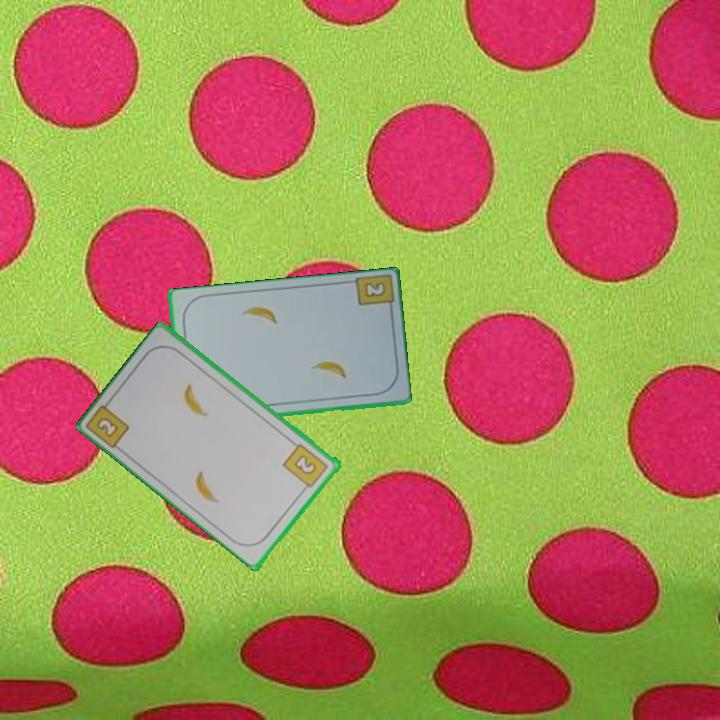2b: (280, 440, 331, 494), (85, 395, 133, 451), (360, 279, 388, 301)
